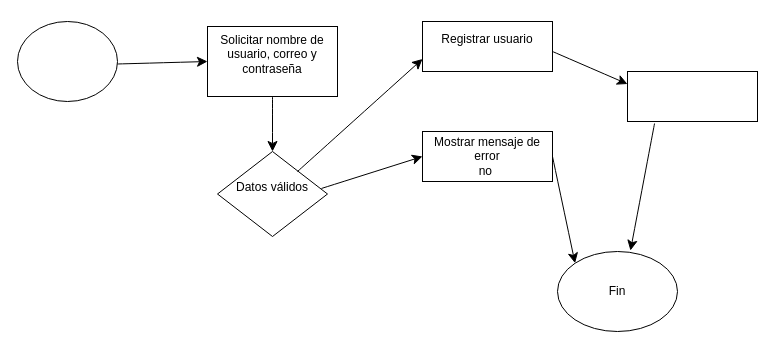
The diagram is 775 pixels wide and 349 high, and some of its shapes have lost their labels. Here are the shapes that lost their labels. From the top down, the box of each, then its label:
(16, 20, 118, 102): Inicio
(626, 70, 758, 122): Mostrar mensaje de éxito si
